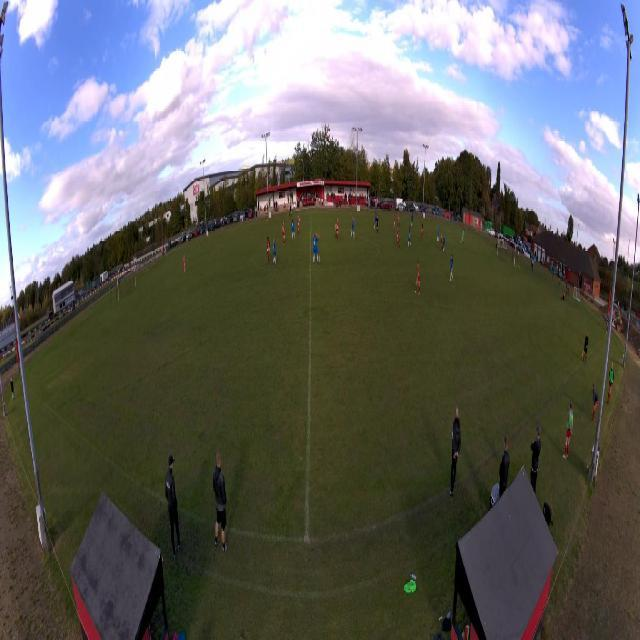ball: (461, 240, 462, 244)
player: (415, 261, 421, 296), (313, 231, 319, 265), (317, 233, 321, 264), (350, 215, 355, 239), (273, 237, 277, 266), (267, 235, 271, 264), (450, 254, 454, 281), (282, 221, 286, 247), (396, 225, 400, 249), (408, 225, 412, 249), (335, 218, 339, 240), (291, 219, 295, 239), (297, 216, 301, 235), (376, 215, 380, 234), (183, 255, 187, 273), (373, 212, 377, 230), (421, 224, 424, 243), (393, 215, 396, 233), (437, 225, 440, 243), (398, 211, 401, 227), (443, 232, 445, 252), (441, 232, 443, 251), (411, 212, 413, 229), (462, 228, 464, 243)
